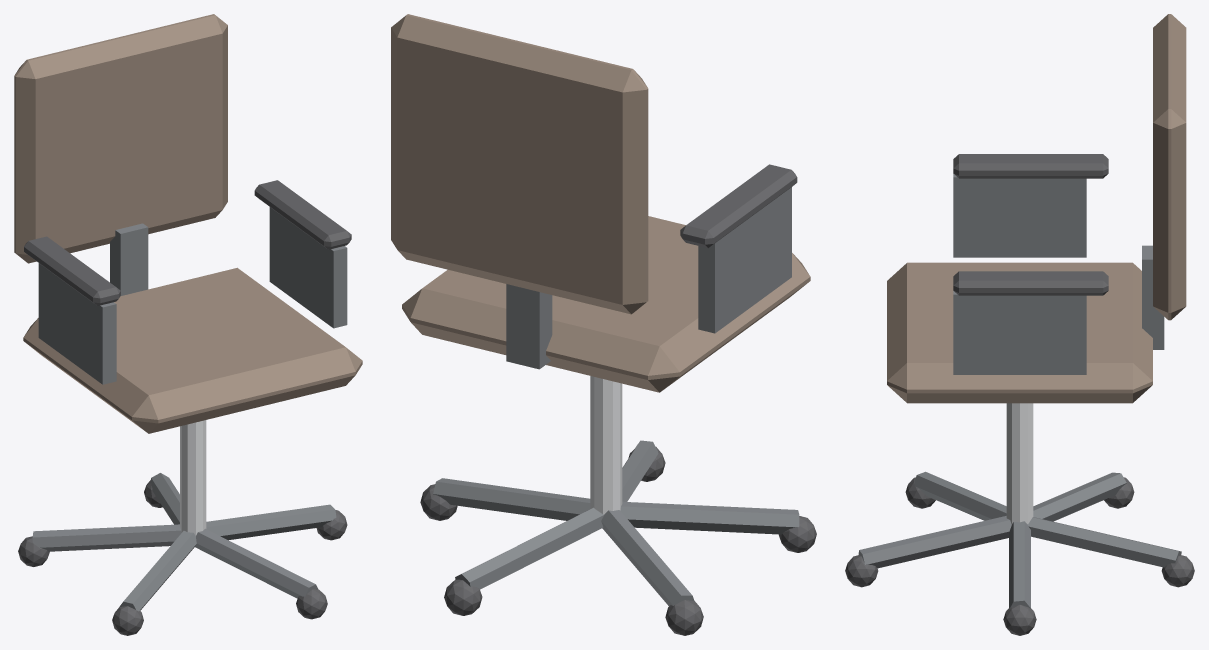
File: office_chair.glb
3 renders of one model, left to right at view 1: azimuth 30°, elevation 25°; view 2: azimuth 150°, elevation 25°; view 3: azimuth 270°, elevation 25°, orthographic. The views are drawn at different scales.
Parts seen in each view (by area): view 1: office_chair_vinyl, office_chair_steel_d, office_chair_dark, office_chair_chrome; view 2: office_chair_vinyl, office_chair_steel_d, office_chair_dark, office_chair_chrome; view 3: office_chair_steel_d, office_chair_vinyl, office_chair_dark, office_chair_chrome.
Part boxes in pixels (box(x1,y1,x2,y2)): office_chair_vinyl: box(14, 14, 362, 433); office_chair_steel_d: box(32, 207, 347, 611); office_chair_dark: box(18, 180, 351, 635); office_chair_chrome: box(180, 420, 206, 535); office_chair_vinyl: box(391, 14, 810, 392); office_chair_steel_d: box(433, 187, 799, 605); office_chair_dark: box(420, 164, 816, 635); office_chair_chrome: box(590, 376, 622, 514); office_chair_steel_d: box(858, 174, 1181, 608); office_chair_vinyl: box(887, 14, 1186, 403); office_chair_dark: box(845, 154, 1194, 635); office_chair_chrome: box(1006, 403, 1033, 524).
Bounding box in the file's own units: 0.61 × 1 × 0.6306.
